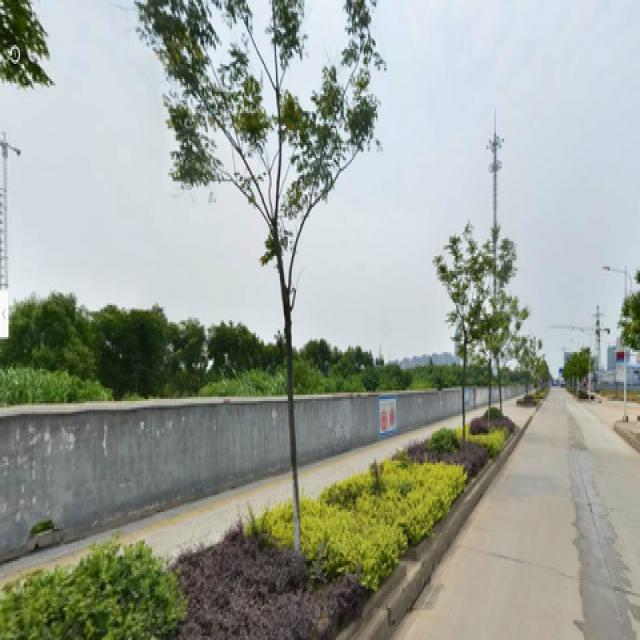koel: (163, 6, 344, 534), (440, 232, 480, 478), (484, 230, 527, 436)
